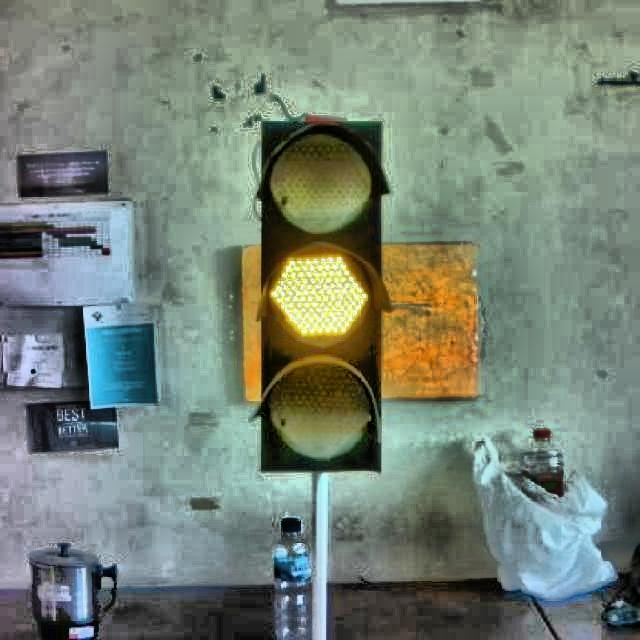yellow: (250, 114, 387, 468)
